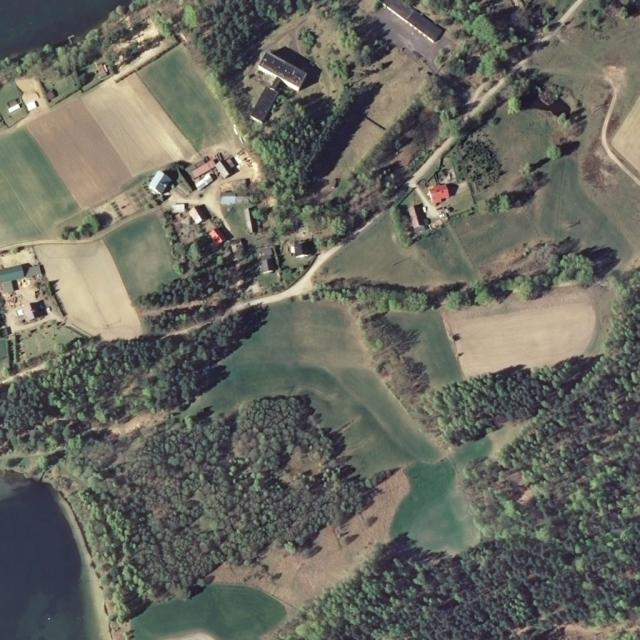agricultural_land: (167, 0, 577, 318), (186, 269, 478, 497), (186, 269, 478, 497), (284, 186, 532, 437), (25, 56, 198, 223), (26, 92, 135, 215), (136, 41, 242, 157), (390, 452, 490, 556), (489, 108, 552, 152)
building: (68, 148, 265, 291), (372, 151, 481, 249), (225, 32, 325, 127), (212, 168, 283, 242), (378, 0, 447, 46)
dryland: (449, 300, 603, 380), (107, 404, 171, 439)
greenland: (0, 215, 333, 547), (296, 540, 500, 640), (424, 224, 623, 324), (0, 237, 143, 342), (92, 526, 198, 623), (466, 12, 505, 52)
wetland: (0, 0, 130, 59)
